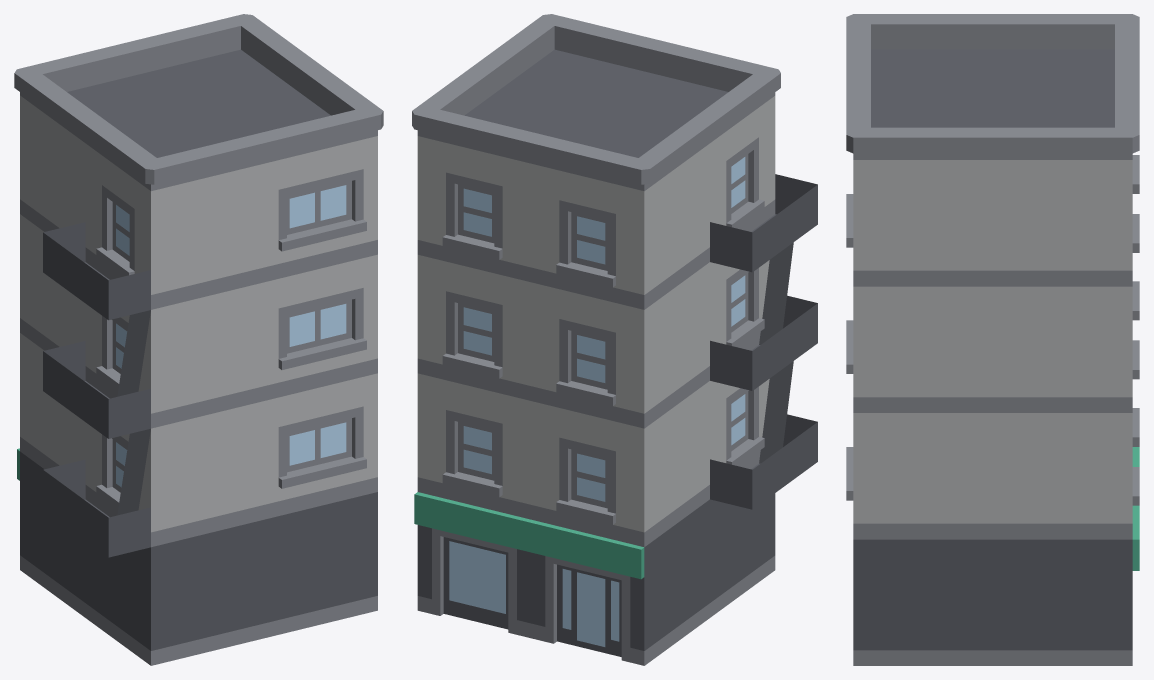
Rendered from large-building.glb.
3 views of the same model, side by side, from view 1: azimuth 30°, elevation 25°; view 2: azimuth 150°, elevation 25°; view 3: azimuth 270°, elevation 25° (orthographic). The views are drawn at different scales.
Parts seen in each view (by area): view 1: large_buildingC; view 2: large_buildingC; view 3: large_buildingC.
Boxes of the visible parts, <box> form: large_buildingC: <box>14,14,383,665</box>; large_buildingC: <box>412,14,817,665</box>; large_buildingC: <box>846,14,1139,665</box>.
Size of the model in its own units: 0.97 by 1.68 by 0.8401.
Materials: 1 (1 with a texture image).
